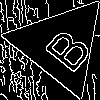B: (35, 20, 95, 75)
